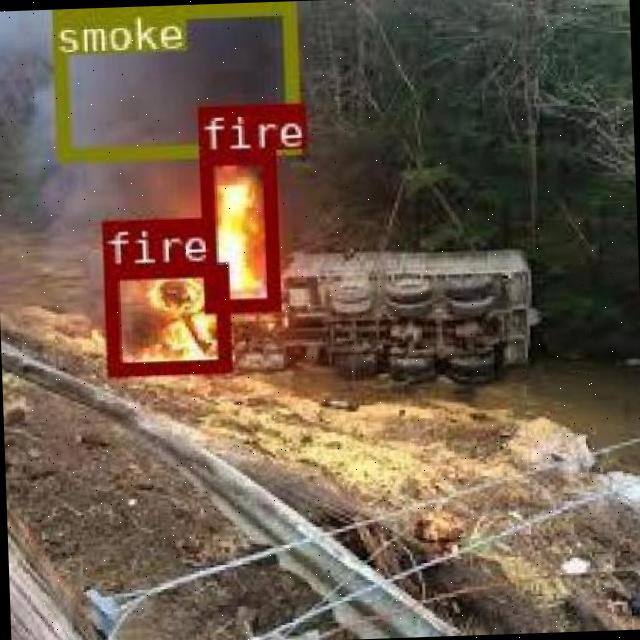fire: (101, 260, 229, 374), (197, 149, 277, 310)
smoke: (51, 1, 298, 157)
